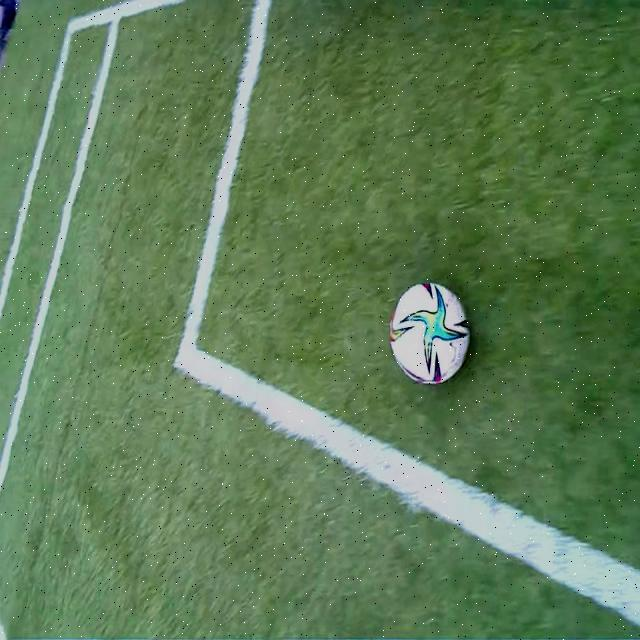ball: (391, 281, 466, 384)
